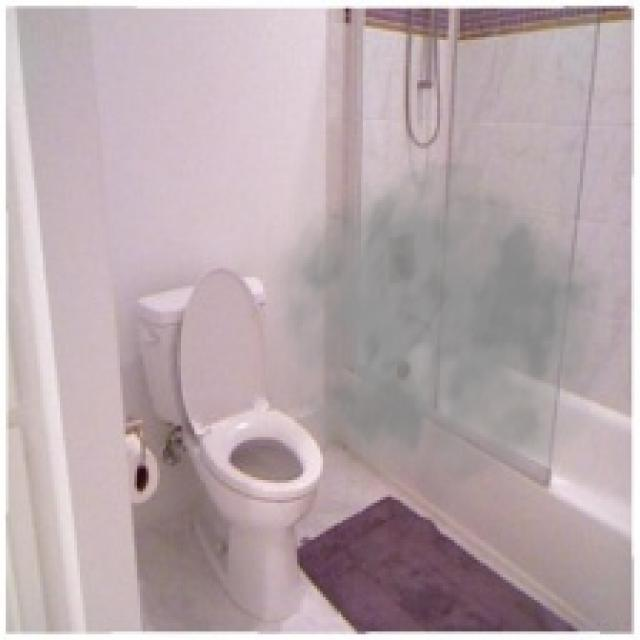Smoke: (266, 157, 634, 529)
